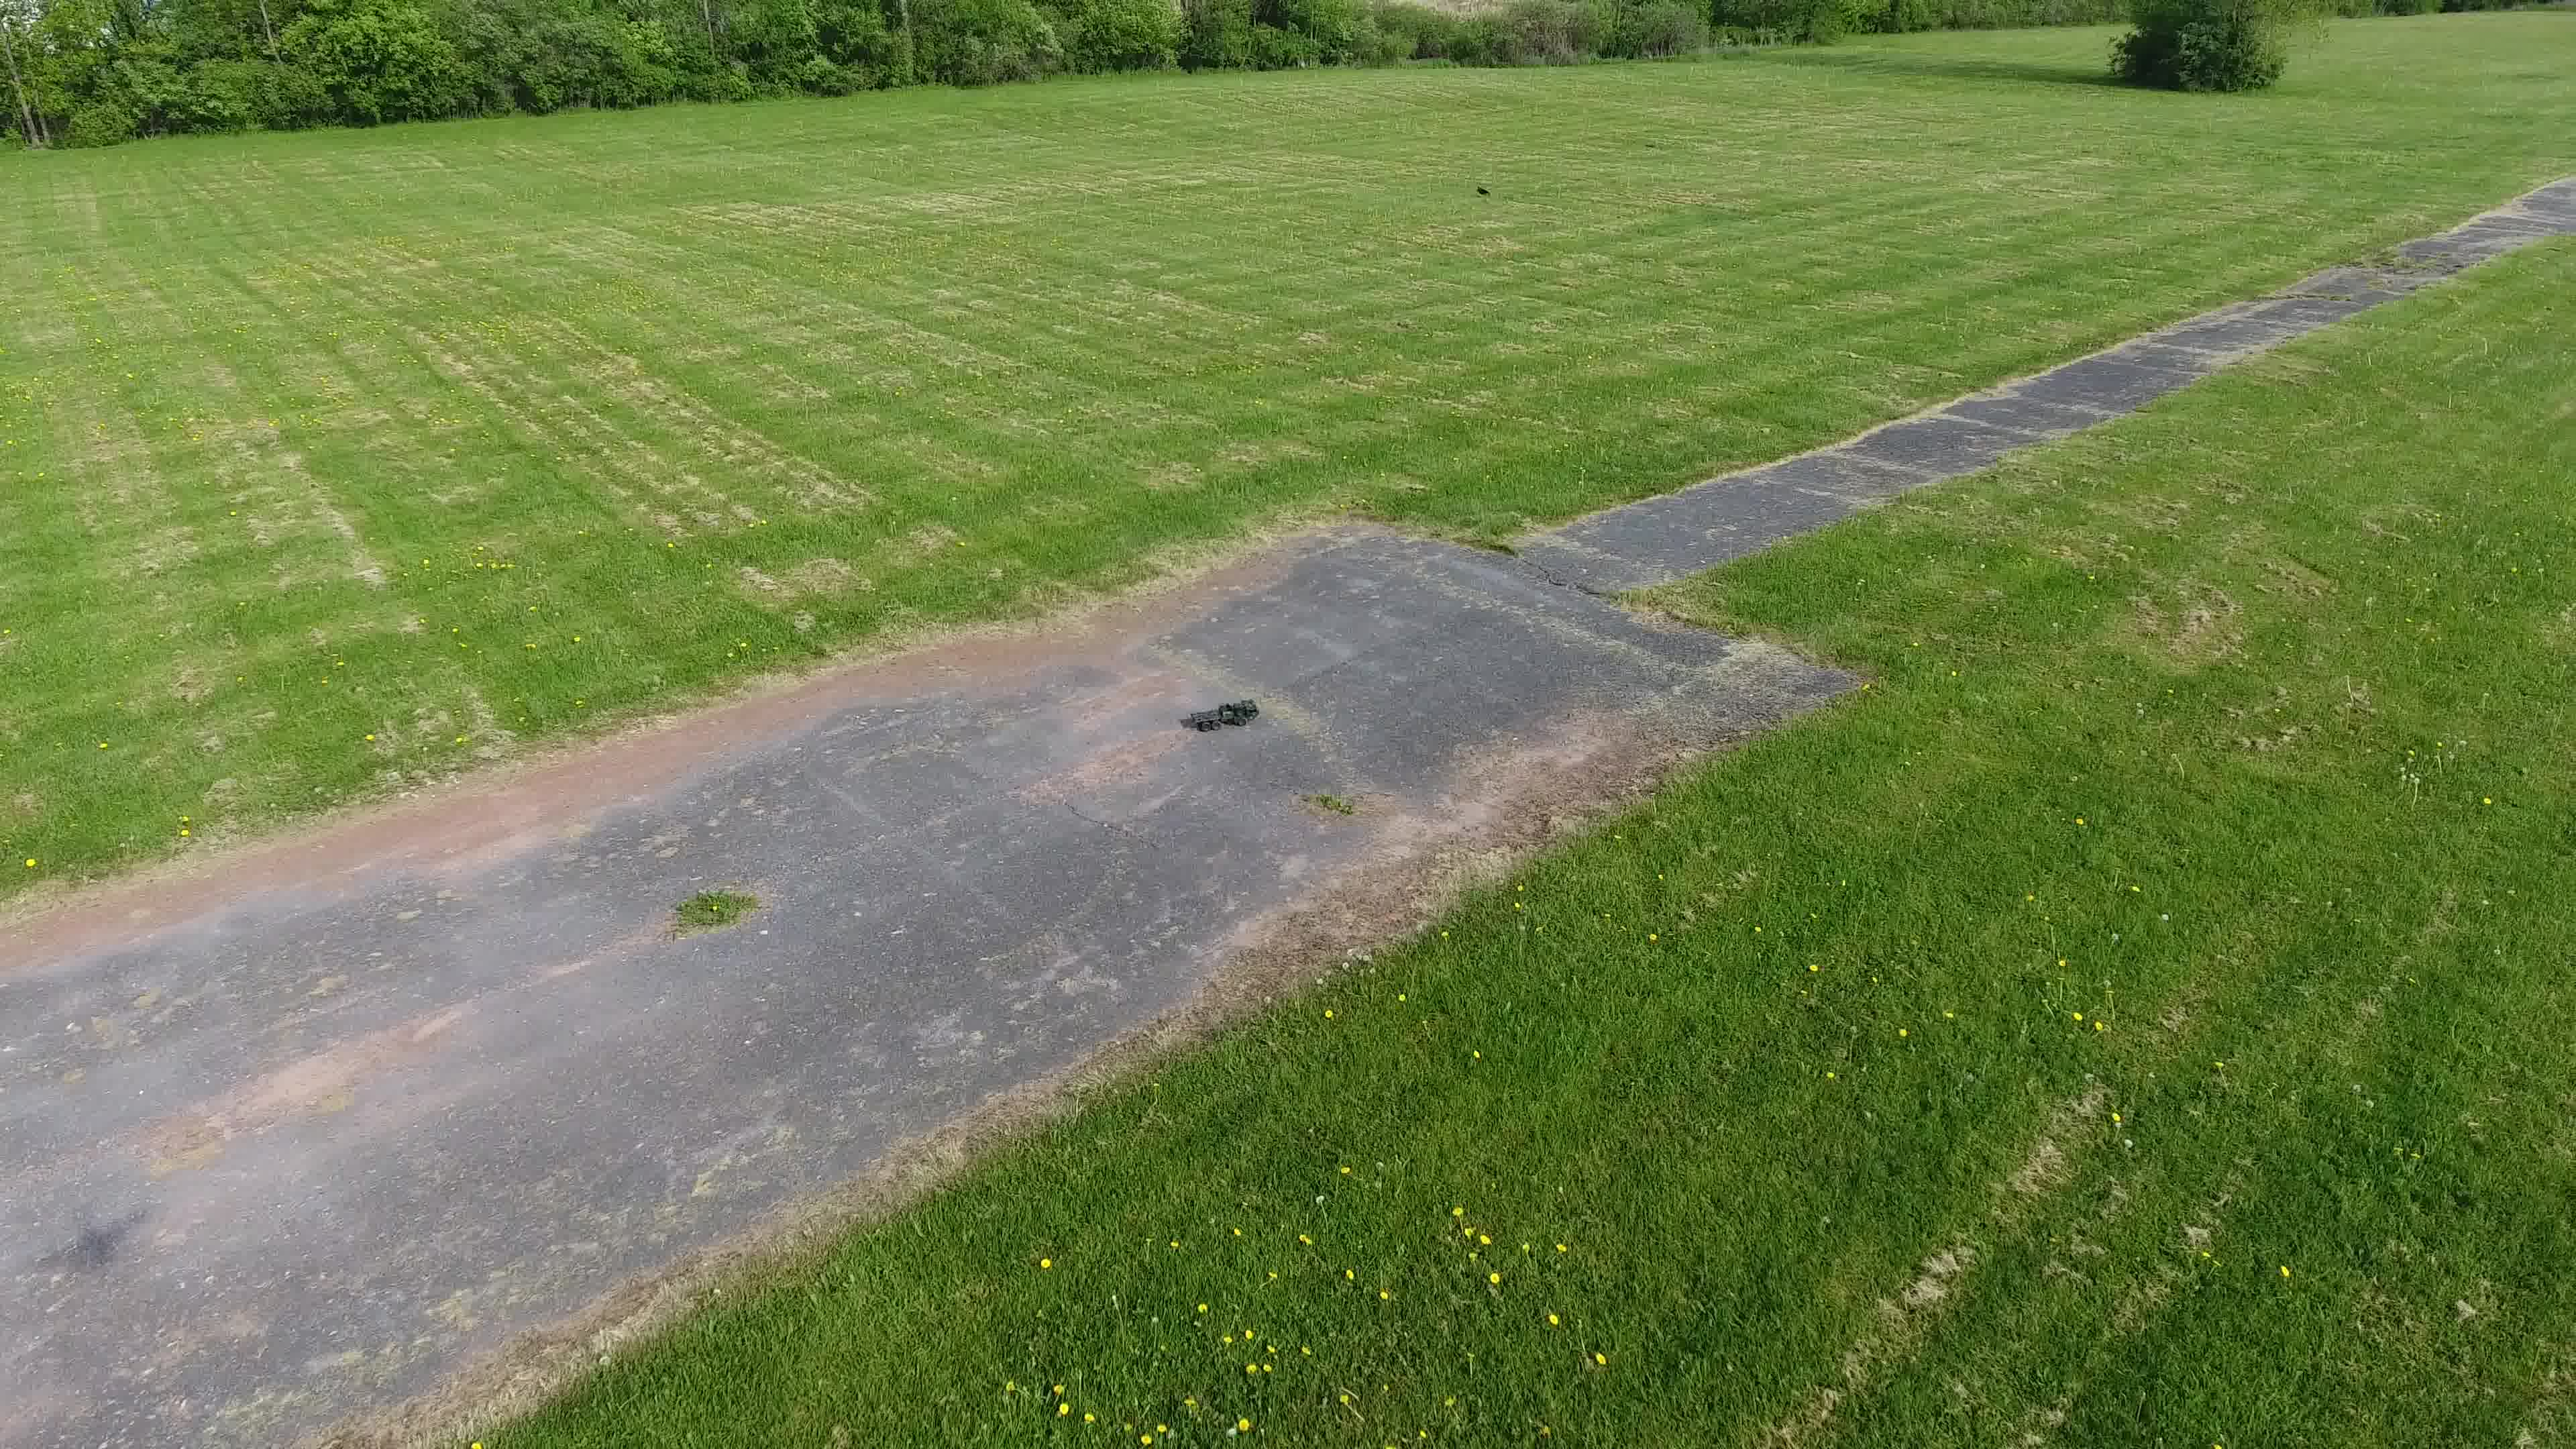transporter9: (1187, 697, 1263, 734)
